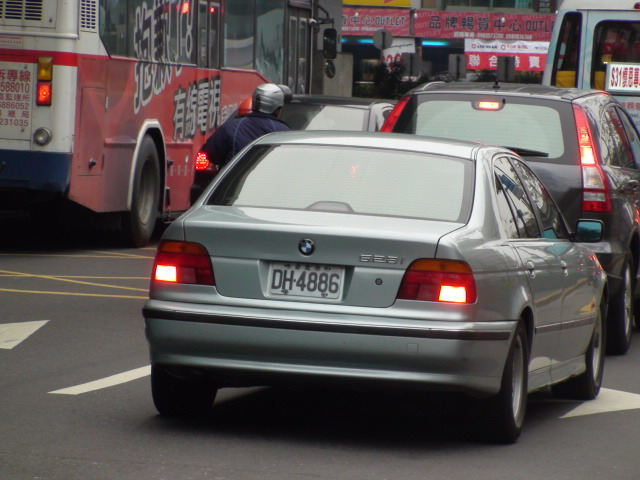plate: (267, 260, 343, 301)
